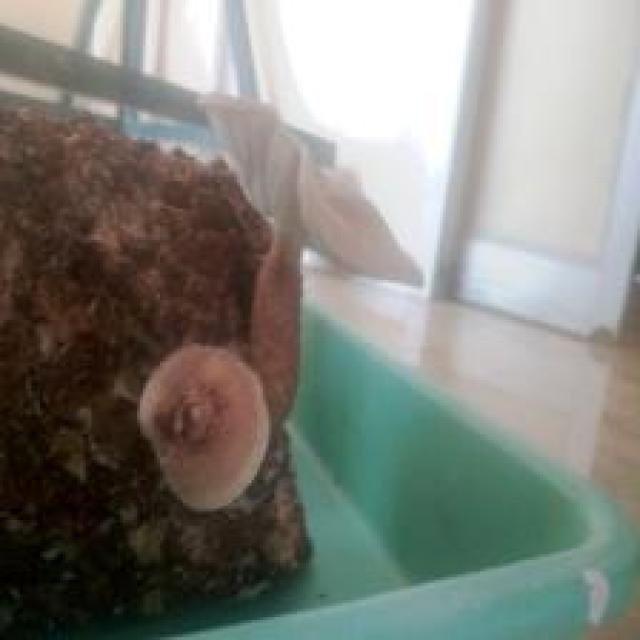chanterelle: (0, 97, 314, 637)
